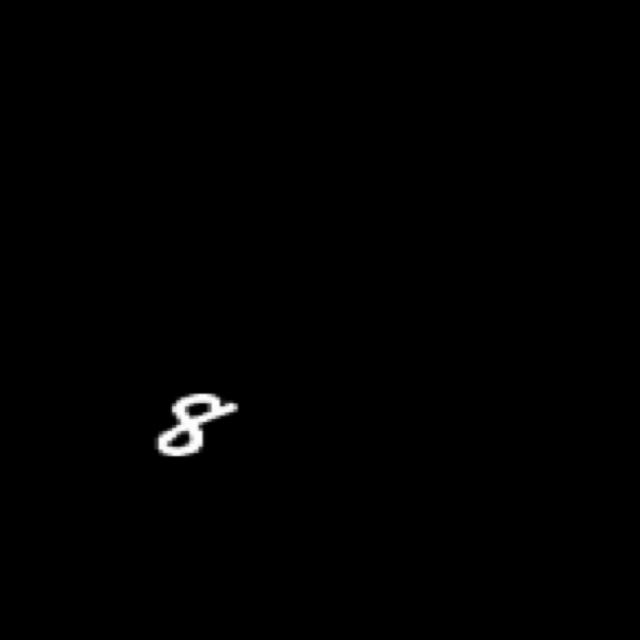eight -8-: (146, 389, 243, 460)
